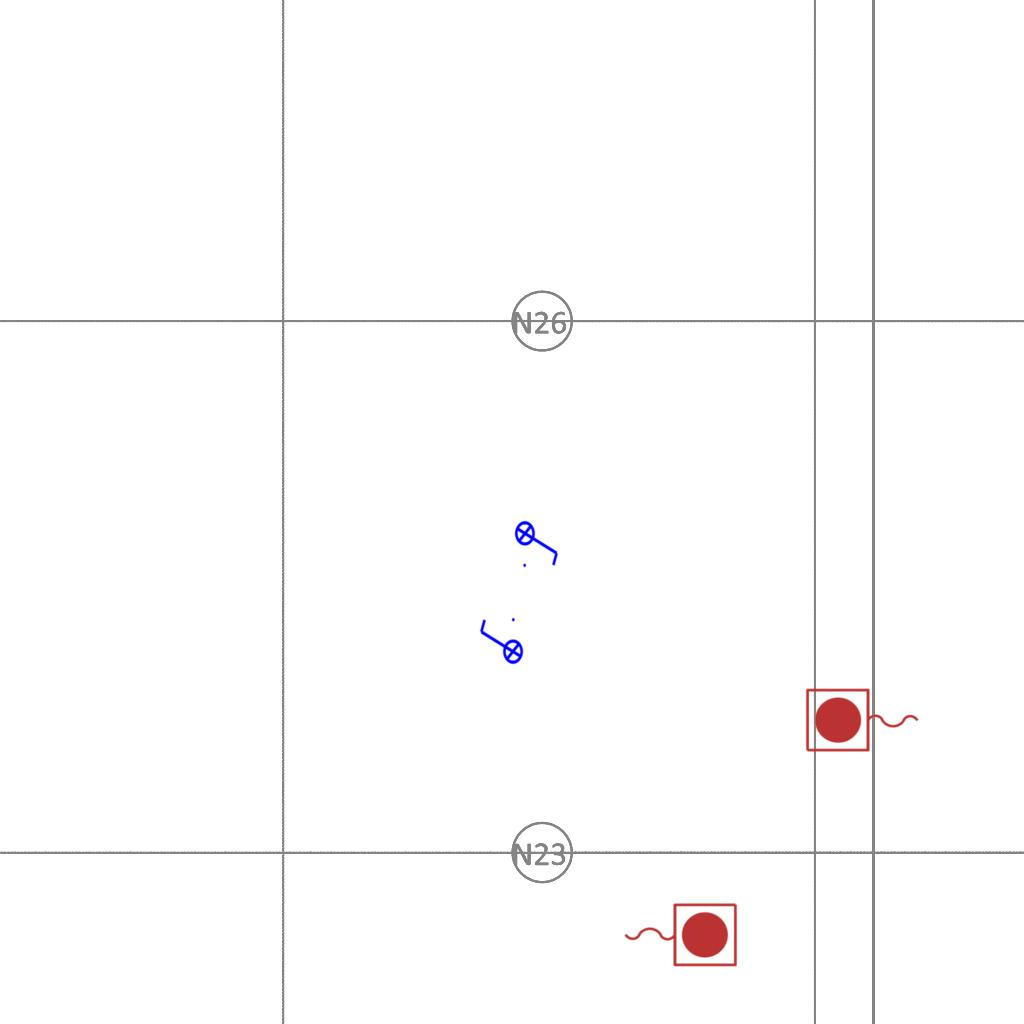Ausschalter_beleuchtet: (475, 614, 525, 672), (514, 514, 562, 570)
Zugtaster: (802, 685, 924, 757), (619, 898, 741, 970)
